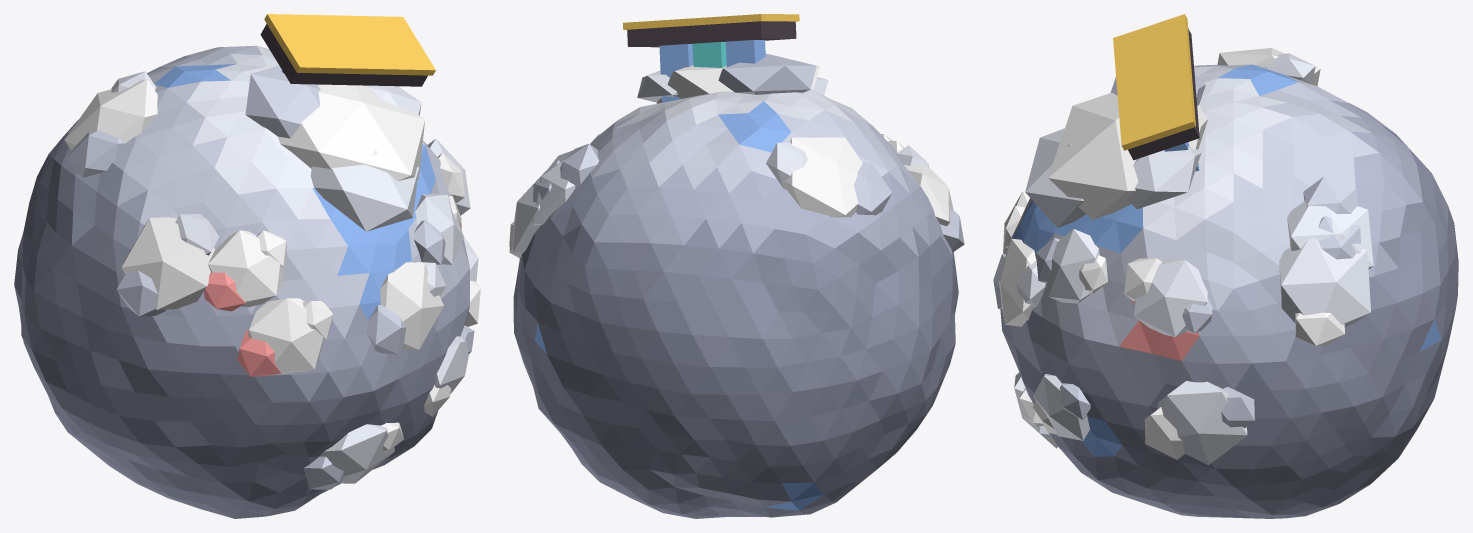
The model's file is Cloud_08.fbx.
3 renders of one model, left to right at view 1: azimuth 30°, elevation 25°; view 2: azimuth 150°, elevation 25°; view 3: azimuth 270°, elevation 25°, orthographic. The views are drawn at different scales.
Parts seen in each view (by area): view 1: Cloud_08; view 2: Cloud_08; view 3: Cloud_08.
Boxes of the visible parts, <box> form: Cloud_08: <box>14,14,480,518</box>; Cloud_08: <box>509,14,964,518</box>; Cloud_08: <box>993,14,1458,518</box>.
Size of the model in its own units: 6.27 by 7.07 by 6.13.
1 material, 1 textured.
